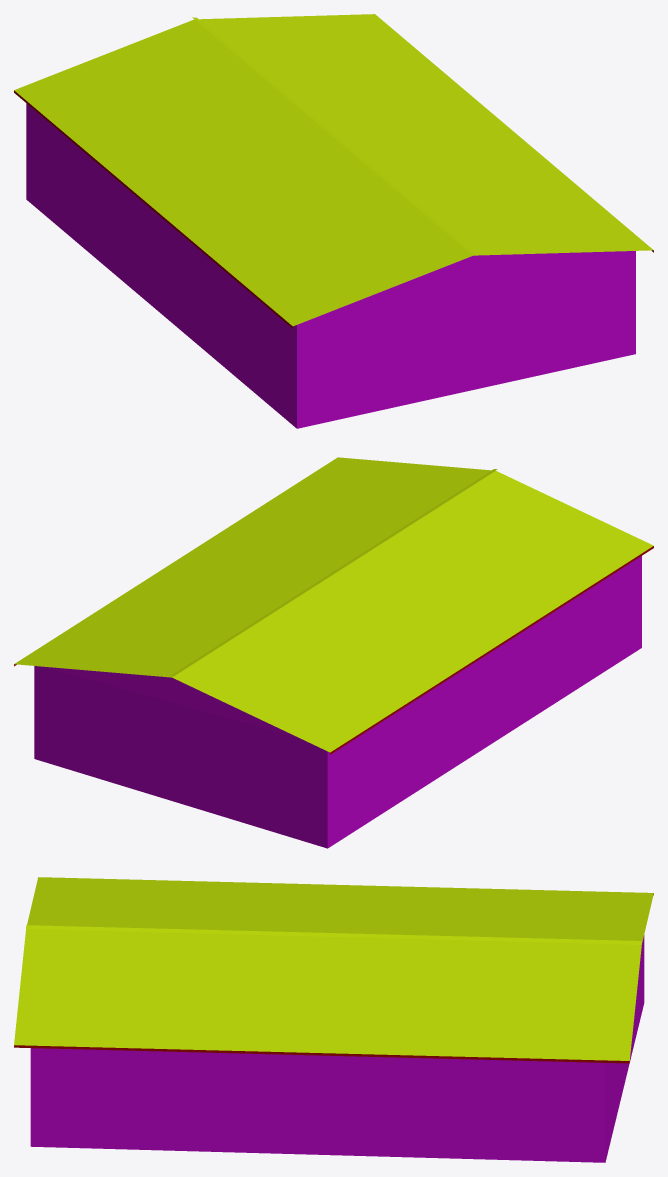
The picture shows the model from 3 angles, top to bottom: view 1: azimuth 30°, elevation 25°; view 2: azimuth 150°, elevation 25°; view 3: azimuth 270°, elevation 25°; orthographic projection. The views are drawn at different scales.
Parts seen in each view (by area): view 1: sc_152; view 2: sc_152; view 3: sc_152.
Boxes of the visible parts, box(x1,y1,x2,y2) form: sc_152: box(14, 14, 653, 428); sc_152: box(14, 457, 653, 848); sc_152: box(14, 877, 653, 1162).
Size of the model in its own units: 19.14 by 6.85 by 28.15.
